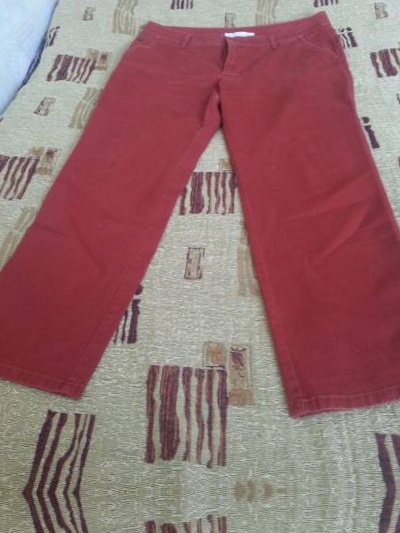Pants: (1, 16, 400, 433)
